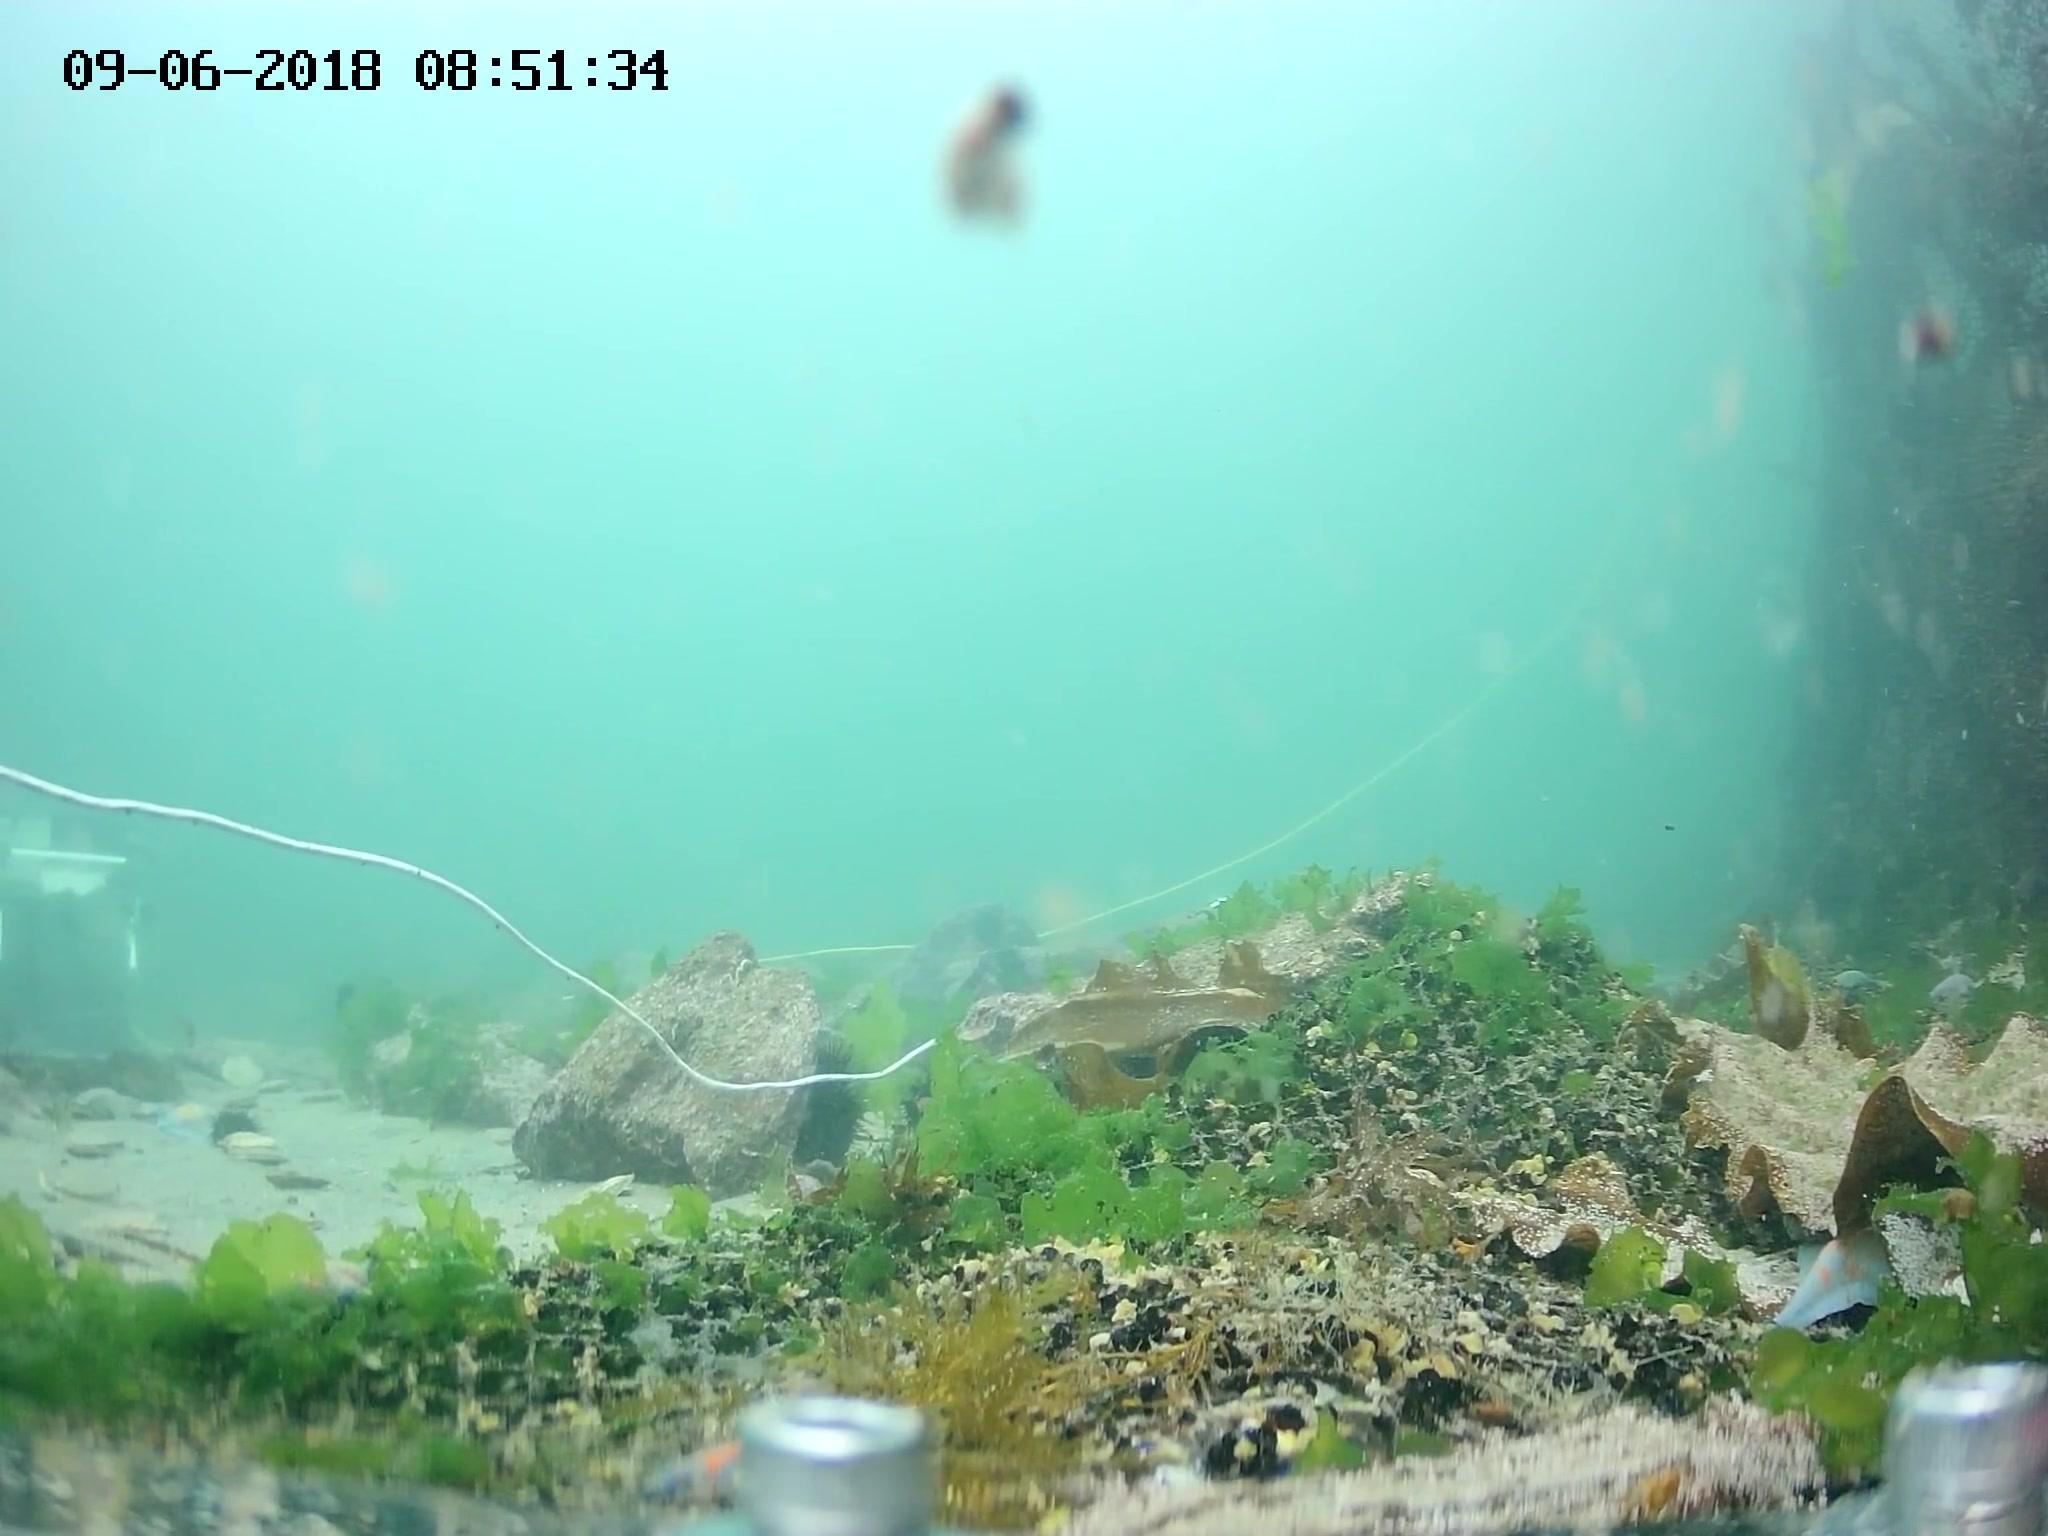echinus: (777, 1044, 868, 1160), (219, 1105, 264, 1137)
scallop: (50, 1158, 129, 1207), (576, 1170, 643, 1210), (232, 1128, 295, 1170), (263, 1167, 327, 1207), (63, 1125, 127, 1160), (219, 1049, 264, 1091)
starfish: (1771, 1231, 1963, 1342), (647, 1439, 764, 1530), (281, 1255, 377, 1328), (73, 1083, 150, 1133), (152, 1092, 223, 1146), (98, 1200, 177, 1246)
